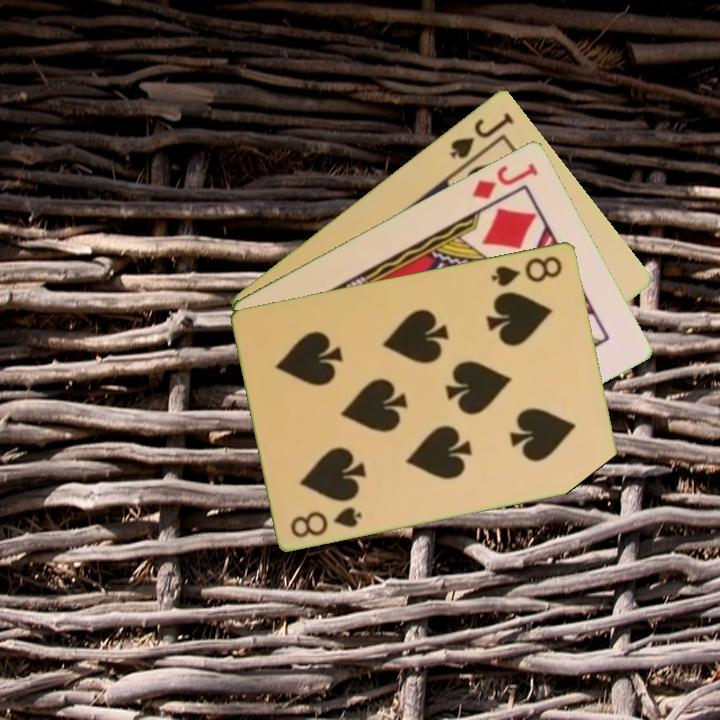8s: (487, 252, 566, 289), (287, 503, 365, 540)
Jd: (468, 158, 541, 202)
Js: (446, 108, 517, 161)
